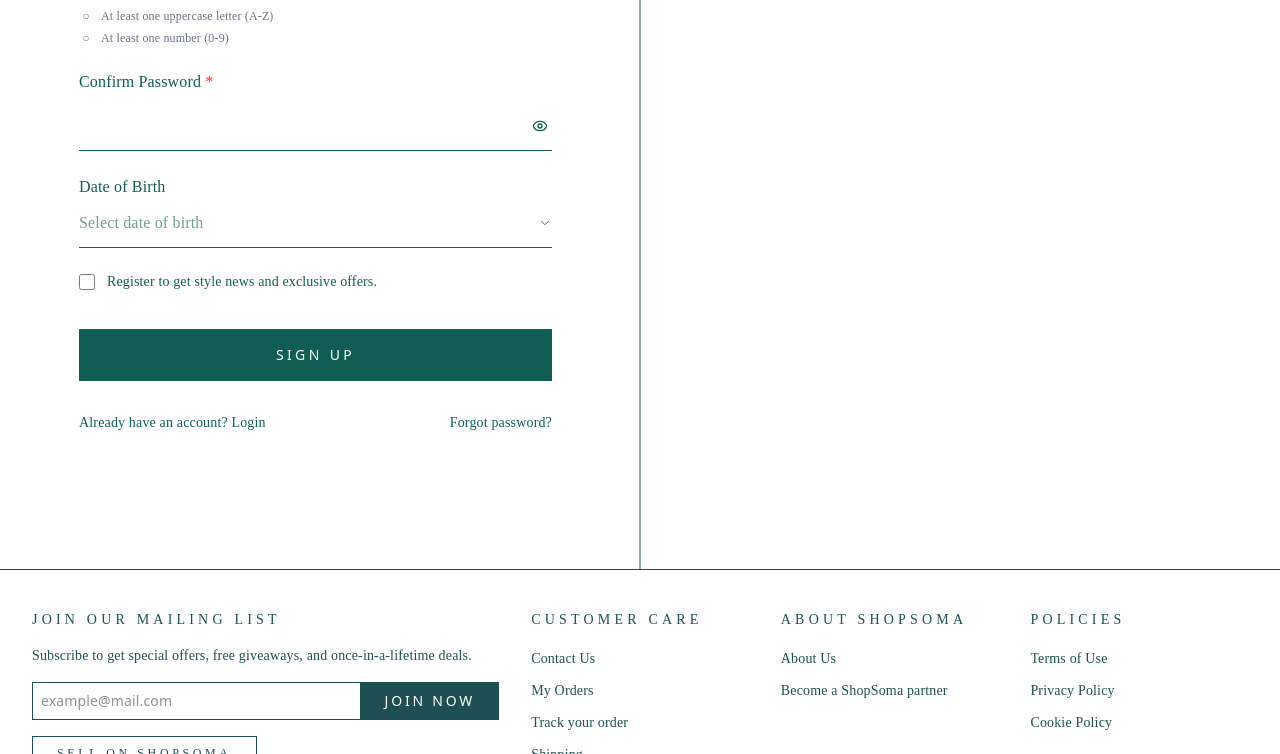
Test: Registration Validation › renders sign up button enabled by default and shows field validation errors when submitted empty
(page scrolled)
Step 1. Click the button "Sign Up" → point(316, 355), box [79,329,552,381]
(page scrolled)
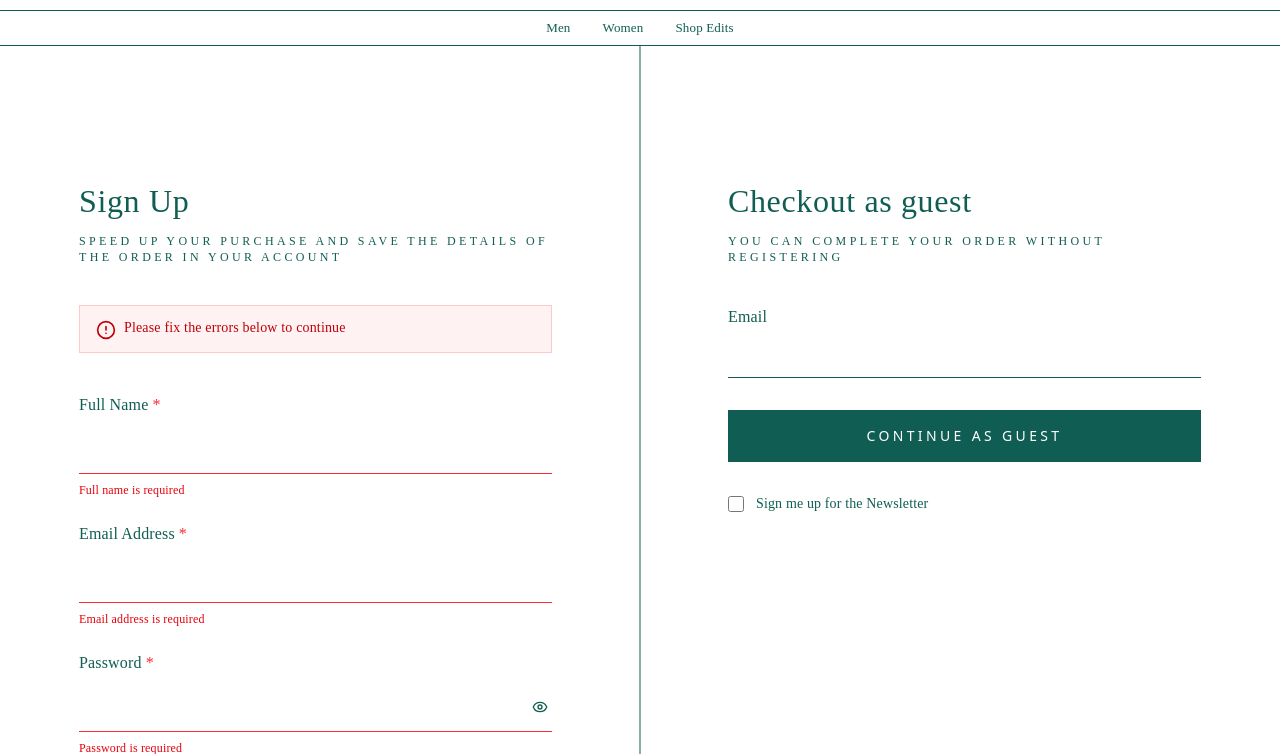
Now the text "Full name is required" is shown, box [79,483,185,497]
Now the text "Email address is required" is shown, box [79,612,205,626]
Now the text "Password is required" is shown, box [79,741,182,753]
